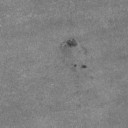iron sheet ash: (66, 38, 78, 48), (82, 64, 86, 68)
